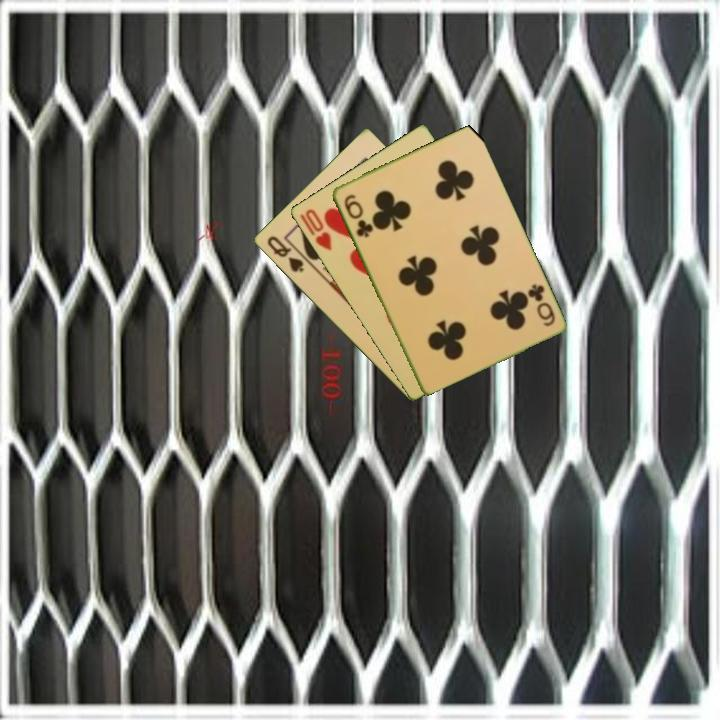10h: (296, 205, 334, 253)
6c: (340, 190, 375, 240), (524, 280, 558, 329)
Qs: (263, 232, 306, 275)
